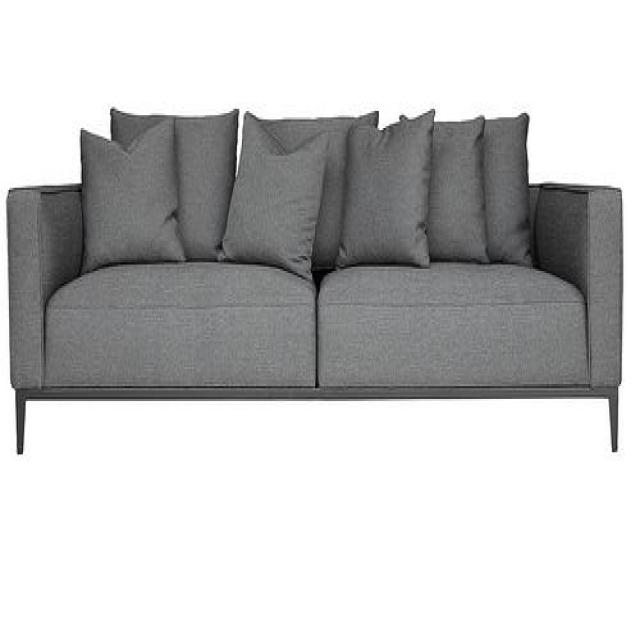sofa: (7, 105, 626, 461)
